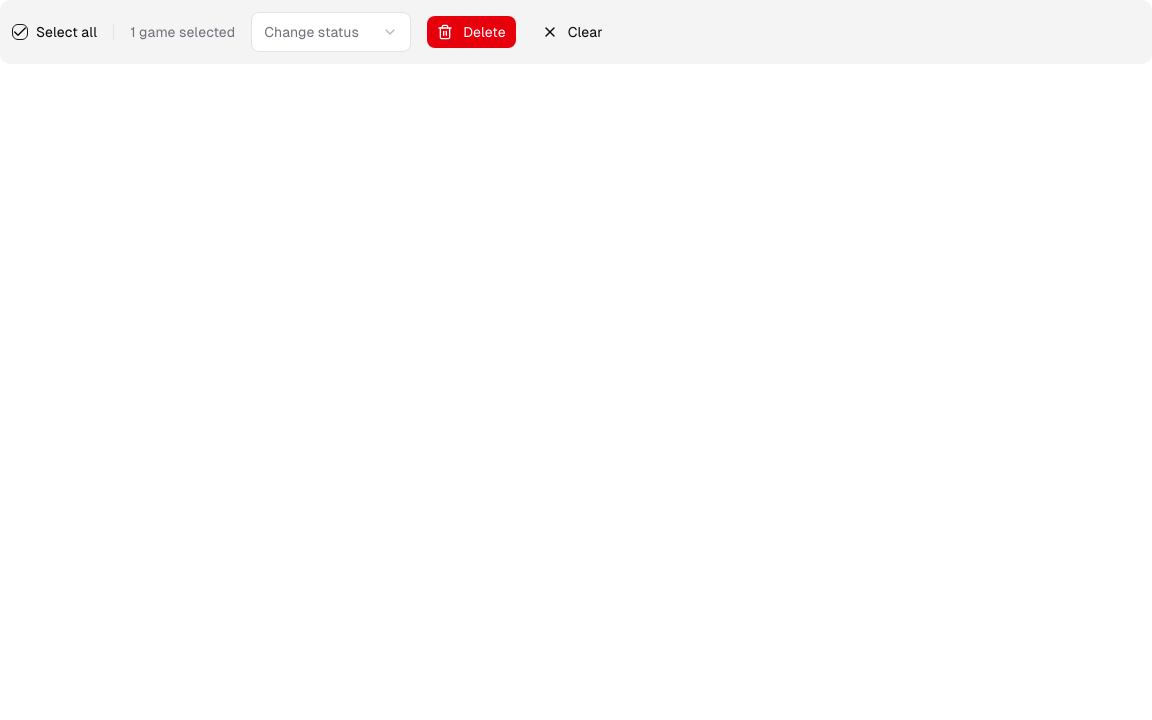
Test: BulkActions › delete functionality › shows correct confirmation message with singular form
Click the button "Delete": (471, 32) x1=427 y1=16 x2=516 y2=48
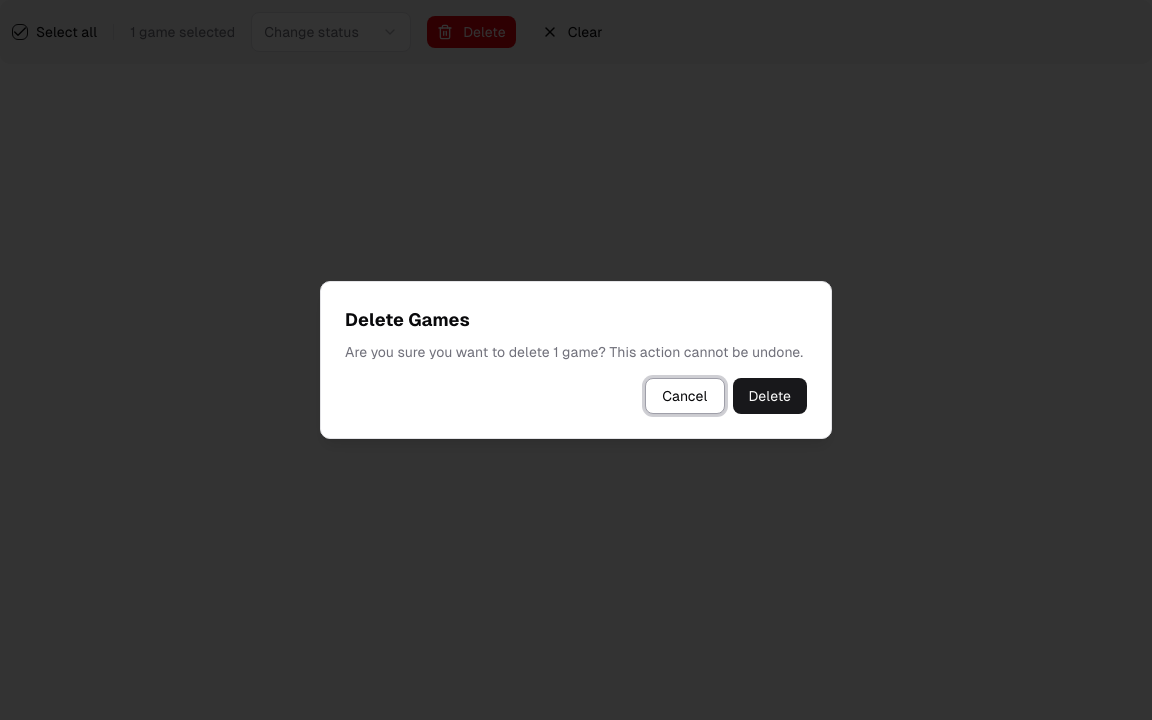
Expected: the text "Are you sure you want to delete 1 game?" is shown, x1=345 y1=342 x2=807 y2=362
